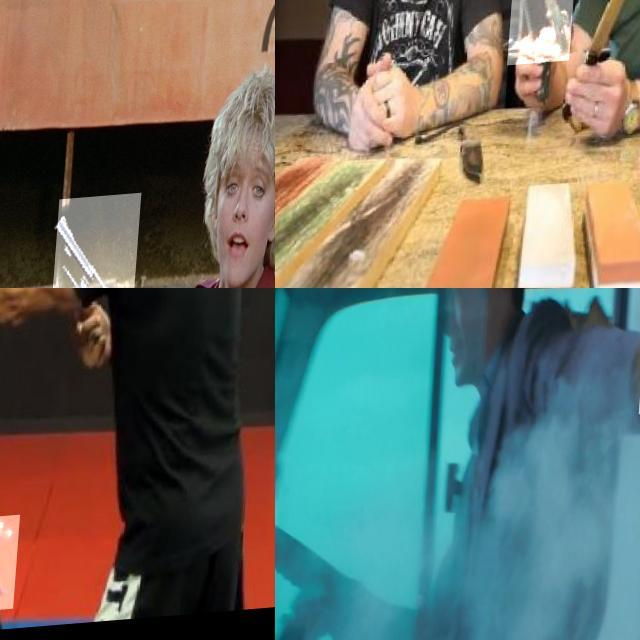-: (570, 0, 640, 102), (513, 0, 583, 76), (0, 519, 53, 619)
gun-knife-thesis - v11 Yolov5 augmented: (49, 195, 144, 288)
